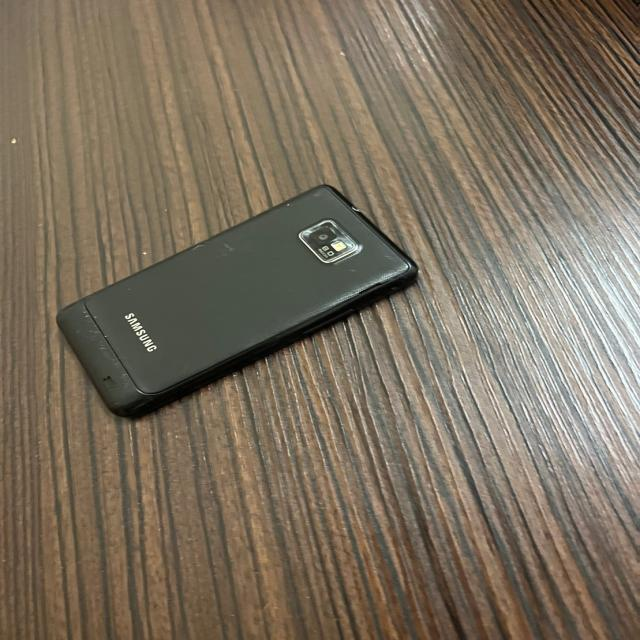phone: (55, 185, 418, 417)
